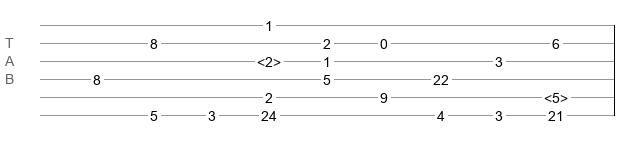0: (380, 36, 388, 46)
1: (265, 18, 273, 28), (323, 54, 331, 64)
2: (265, 90, 273, 100), (323, 36, 331, 46)
21: (548, 108, 564, 118)
22: (433, 72, 449, 82)
24: (261, 108, 277, 118)
3: (208, 108, 216, 118), (495, 108, 503, 118), (495, 54, 503, 64)
4: (437, 108, 445, 118)
5: (150, 108, 158, 118), (323, 72, 331, 82)
6: (552, 36, 560, 46)
8: (93, 72, 101, 82), (150, 36, 158, 46)
9: (380, 90, 388, 100)
harmonic: (257, 54, 281, 64), (544, 90, 568, 100)
